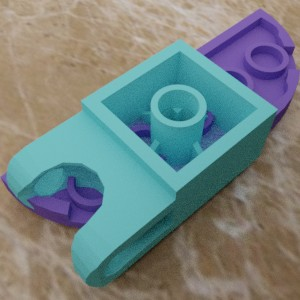lego: (6, 38, 278, 287), (0, 8, 299, 229)
